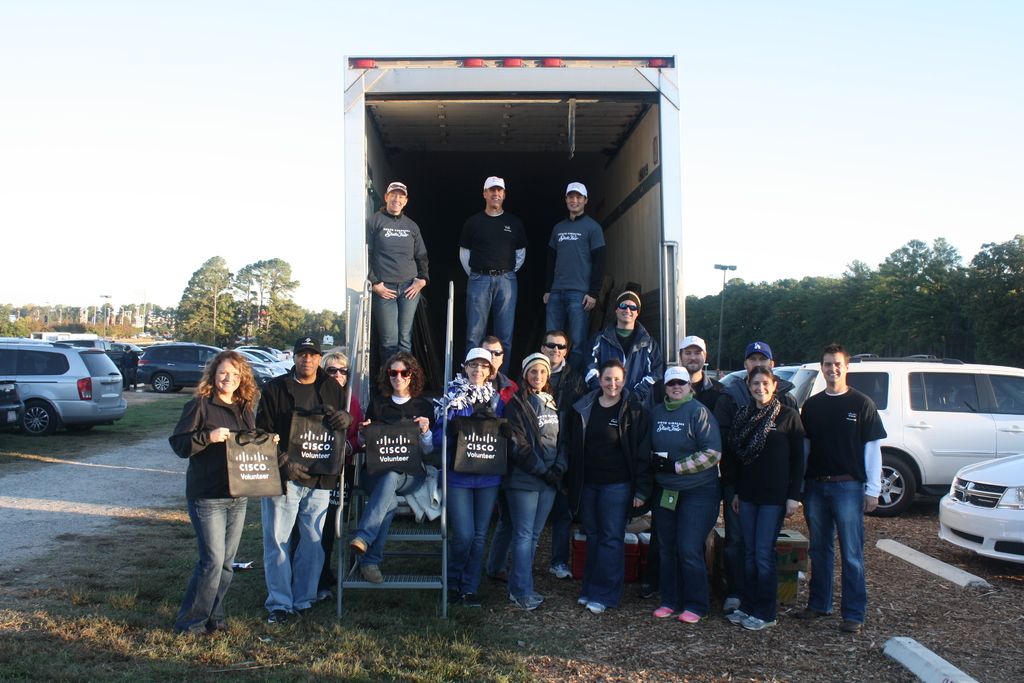Car: (788, 355, 1023, 514), (0, 334, 294, 435), (935, 450, 1023, 565), (717, 364, 785, 385), (771, 365, 801, 381), (903, 353, 936, 358), (852, 353, 876, 359)
